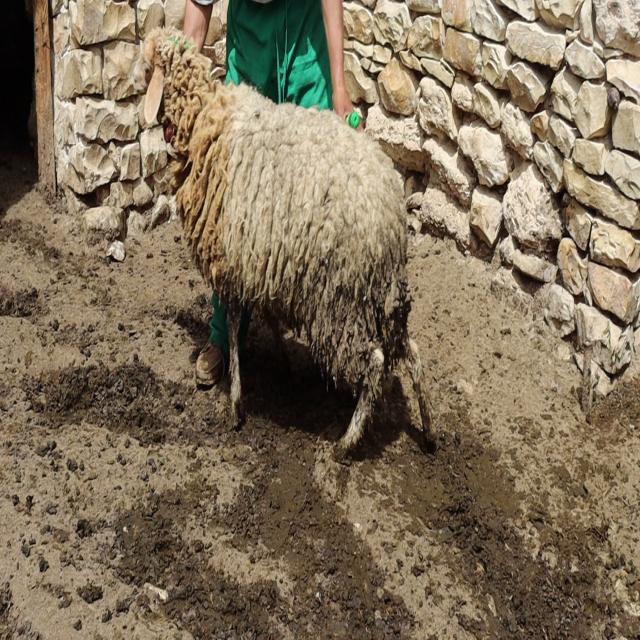Score_2: (143, 28, 432, 456)
